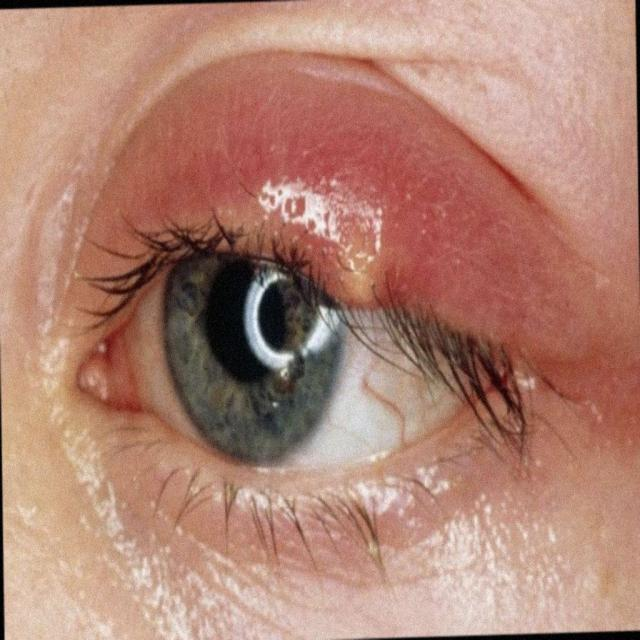Chalazion: (85, 68, 511, 533)
